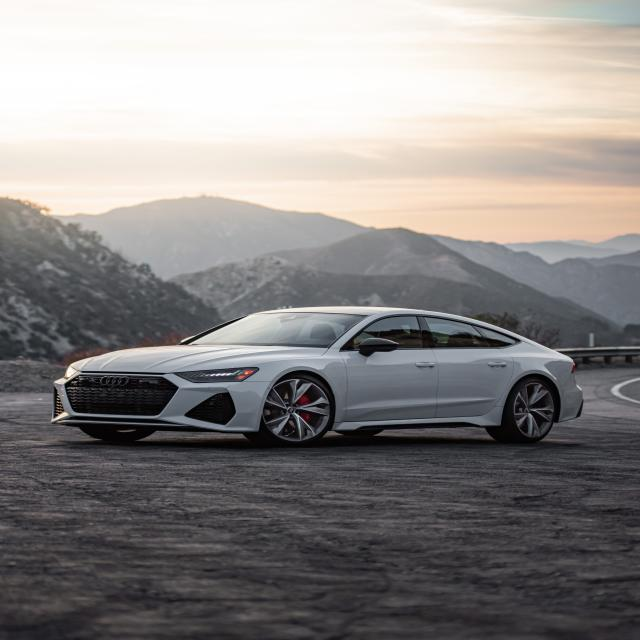Glass: (194, 308, 364, 350), (357, 313, 519, 355)
